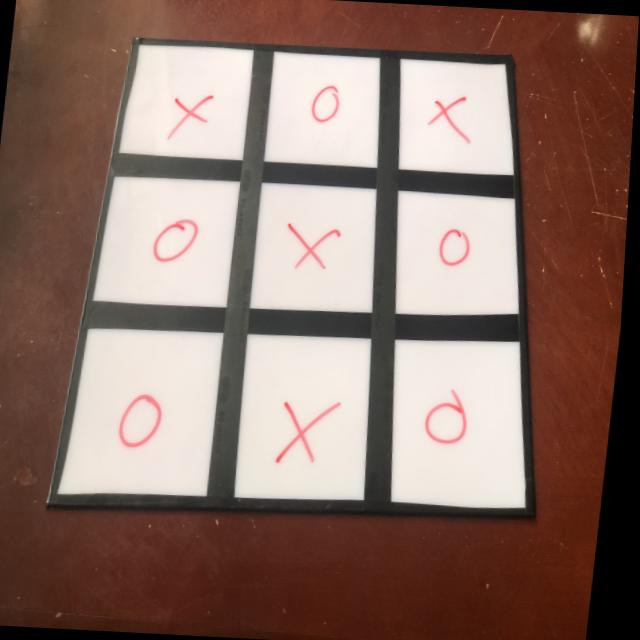o: (119, 387, 176, 458), (149, 215, 206, 272), (425, 396, 477, 455), (302, 80, 351, 135), (437, 223, 478, 275)
x: (271, 399, 350, 470), (166, 83, 220, 150), (427, 91, 481, 146), (286, 223, 343, 274)
